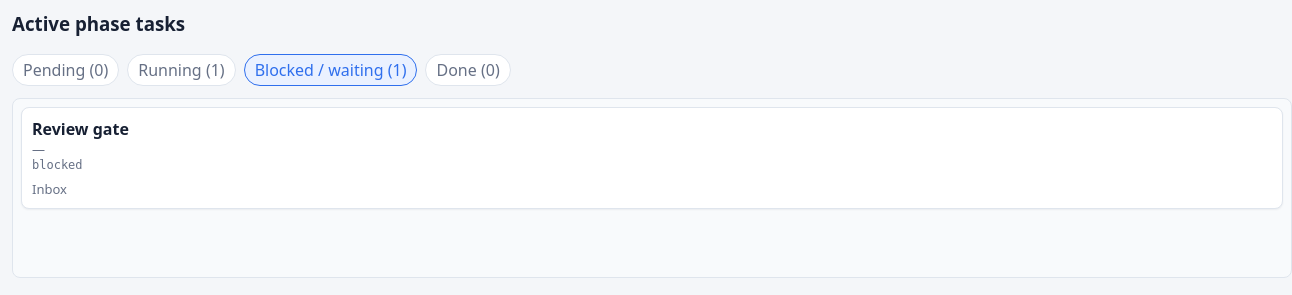
Test case: uses mobile filters for responsive task columns
Expected: the text "Review gate" is shown, [32, 118, 129, 140]
Expected: the text "Implement feature" is not shown
Click the button "Running (1)" at (181, 70), box [127, 54, 236, 86]
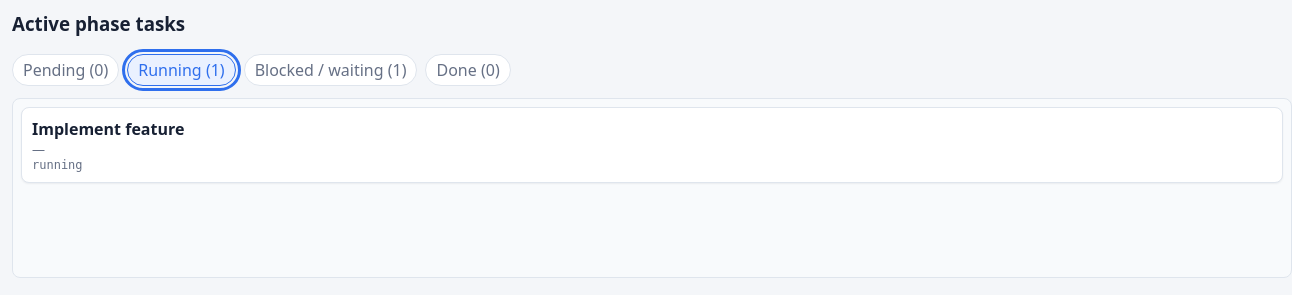
Now the text "Implement feature" is shown, box [32, 118, 184, 140]
Now the text "Review gate" is gone
